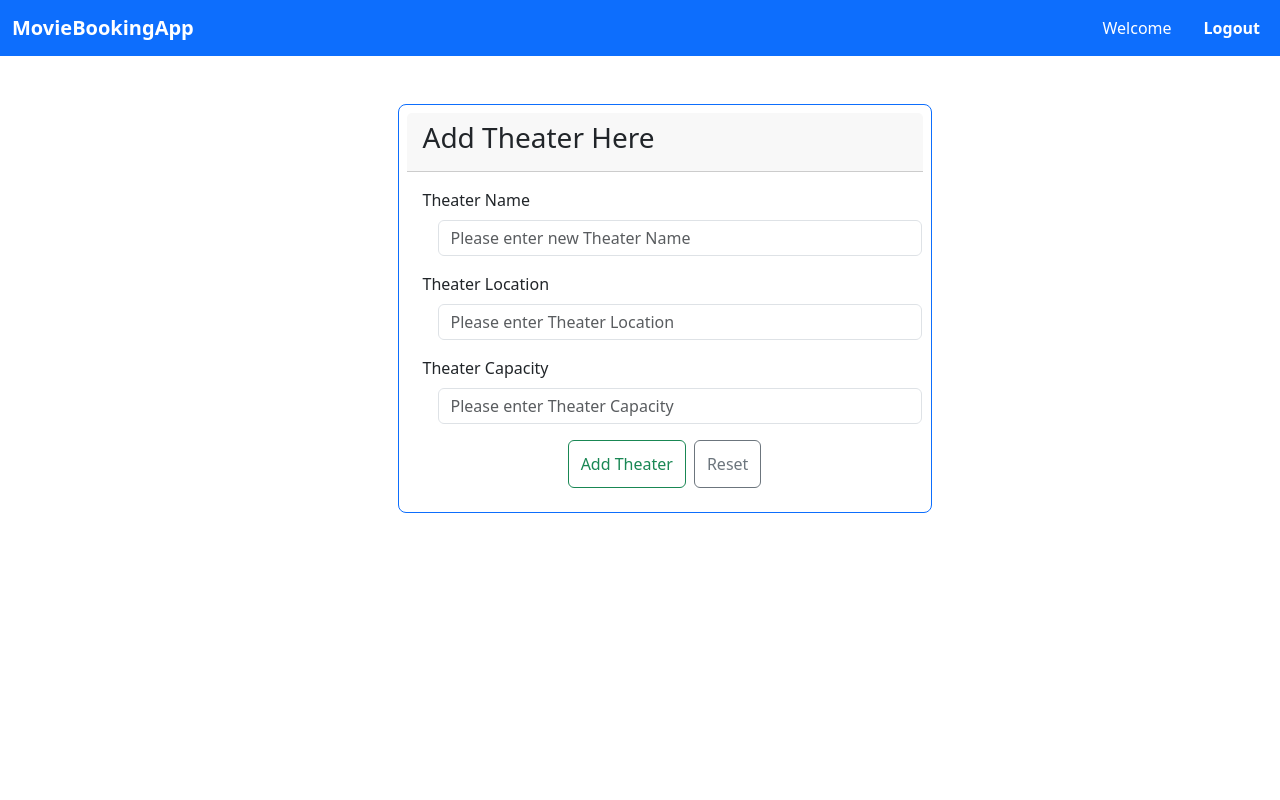
Test: AddTheater Component › shows error messages for invalid inputs
Click the button "Add Theater" at (627, 464), box [568, 440, 686, 488]
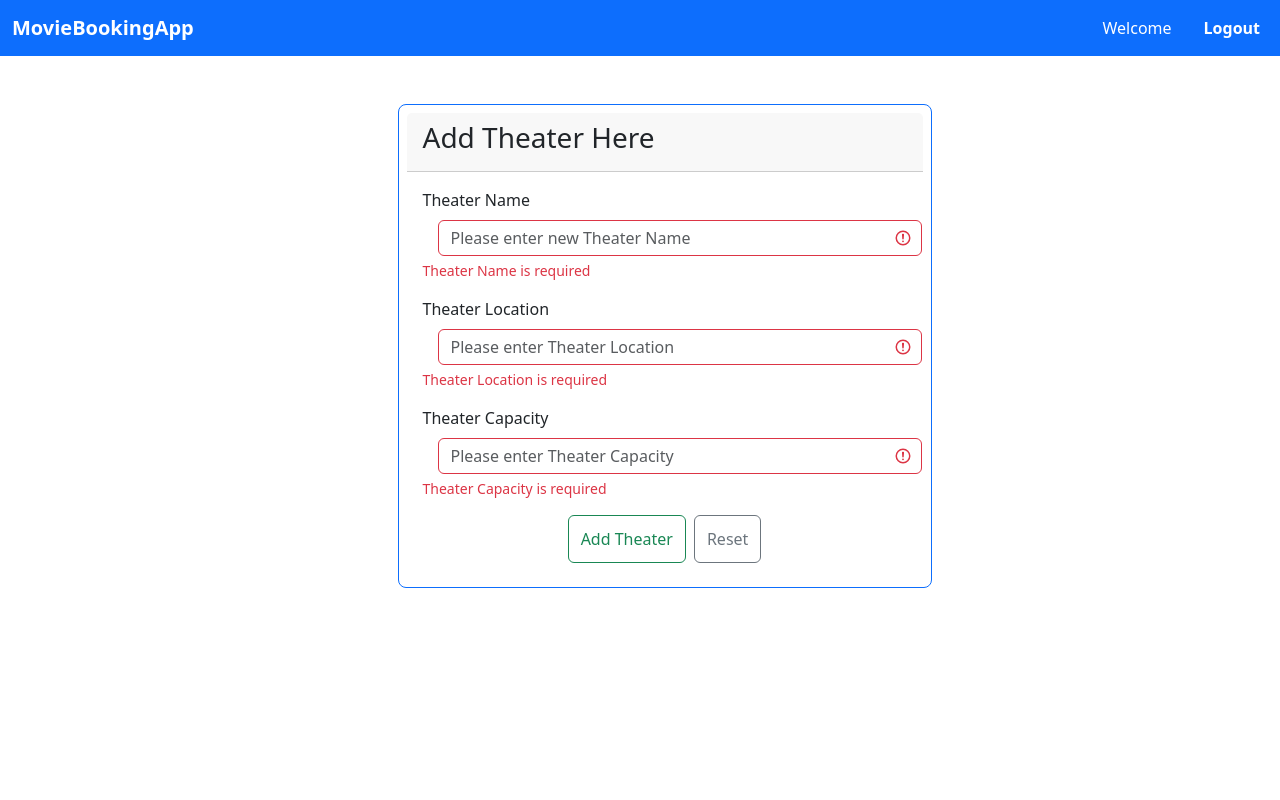
Check: the text "Theater Name is required" is shown, box [422, 261, 590, 280]
Check: the text "Theater Location is required" is shown, box [422, 370, 607, 389]
Check: the text "Theater Capacity is required" is shown, box [422, 479, 607, 498]
